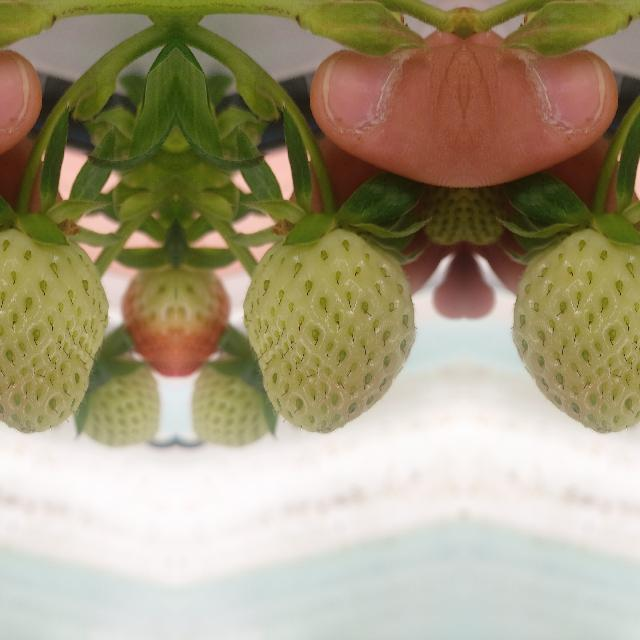Health_25: (242, 228, 414, 432), (512, 228, 640, 432), (0, 228, 108, 432), (74, 349, 164, 443), (187, 349, 276, 443)
Health_75: (174, 267, 230, 378), (120, 267, 176, 378)
